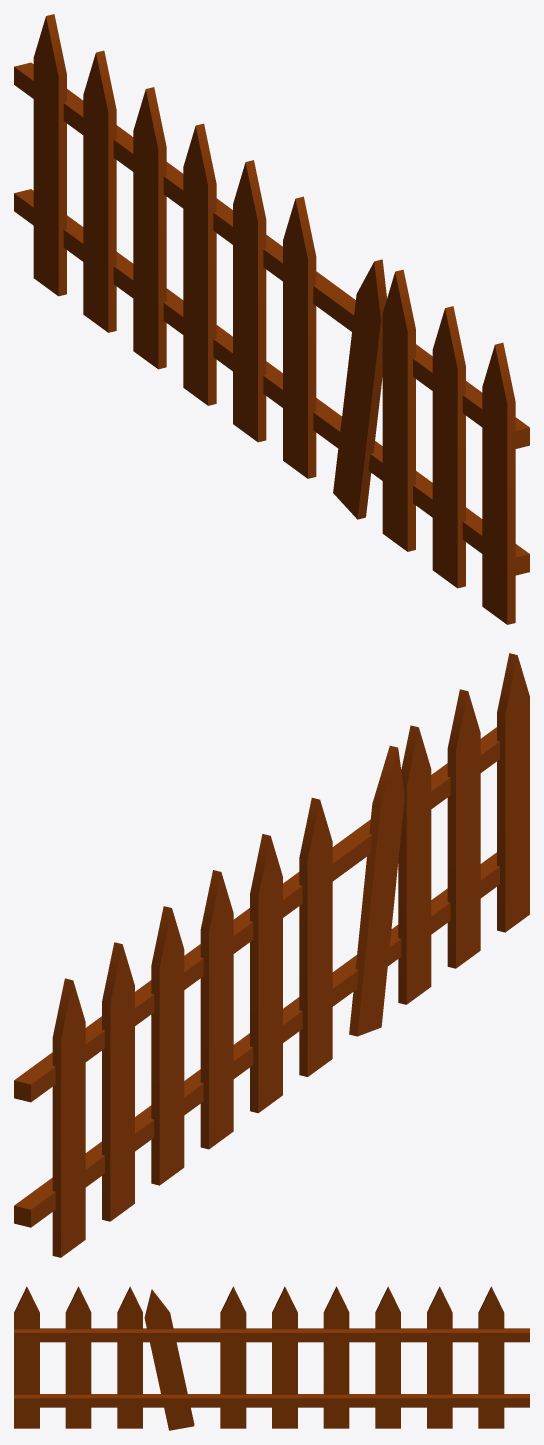
The model's file is SM_woodFence.fbx.
3 views of the same model, one above another, from view 1: azimuth 30°, elevation 25°; view 2: azimuth 150°, elevation 25°; view 3: azimuth 270°, elevation 25° (orthographic). The views are drawn at different scales.
Parts seen in each view (by area): view 1: SM_woodFence; view 2: SM_woodFence; view 3: SM_woodFence.
Boxes of the visible parts, x1,y1,x2,y2 form: SM_woodFence: [14, 14, 529, 624]; SM_woodFence: [14, 653, 529, 1257]; SM_woodFence: [14, 1286, 529, 1430].
Size of the model in its own units: 13.05 by 152 by 500.
